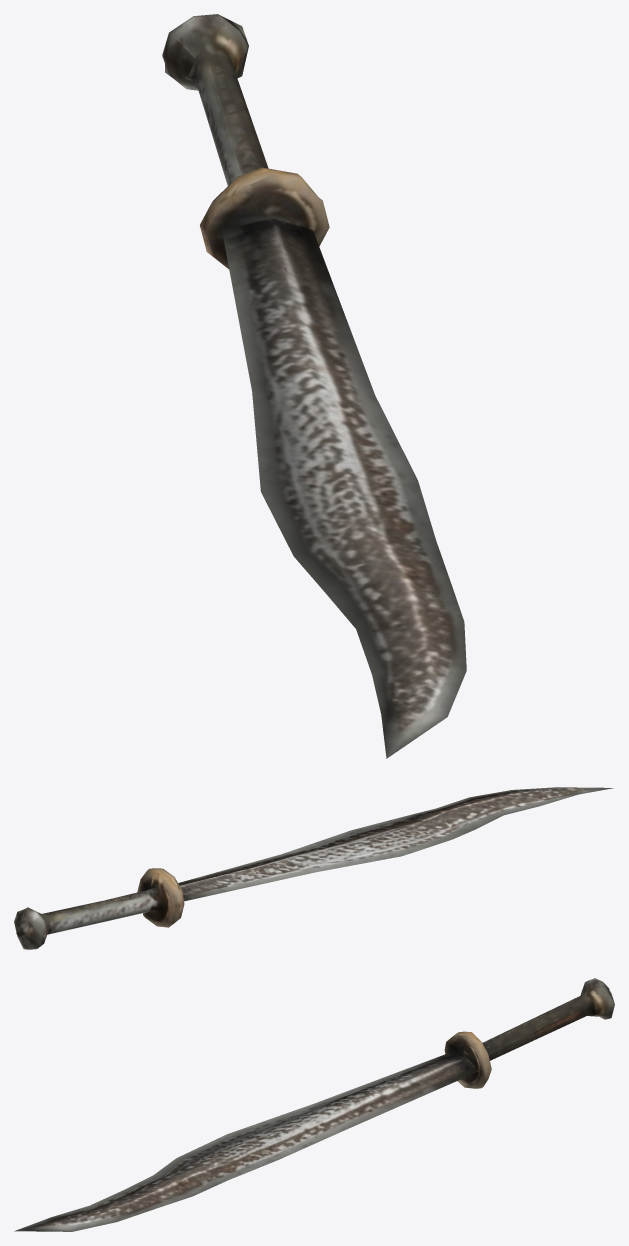
The model's file is WPN_GREATSWORD.glb.
3 renders of one model, top to bottom at view 1: azimuth 30°, elevation 25°; view 2: azimuth 150°, elevation 25°; view 3: azimuth 330°, elevation 25°, orthographic. The views are drawn at different scales.
Parts seen in each view (by area): view 1: WPN_GREATSWORD; view 2: WPN_GREATSWORD; view 3: WPN_GREATSWORD.
Part boxes in pixels (bbox=[...]): WPN_GREATSWORD: bbox=[162, 14, 466, 758]; WPN_GREATSWORD: bbox=[14, 787, 613, 949]; WPN_GREATSWORD: bbox=[14, 978, 614, 1231].
Size of the model in its own units: 0.1526 by 0.0352 by 0.3425.
1 material, 1 textured.
